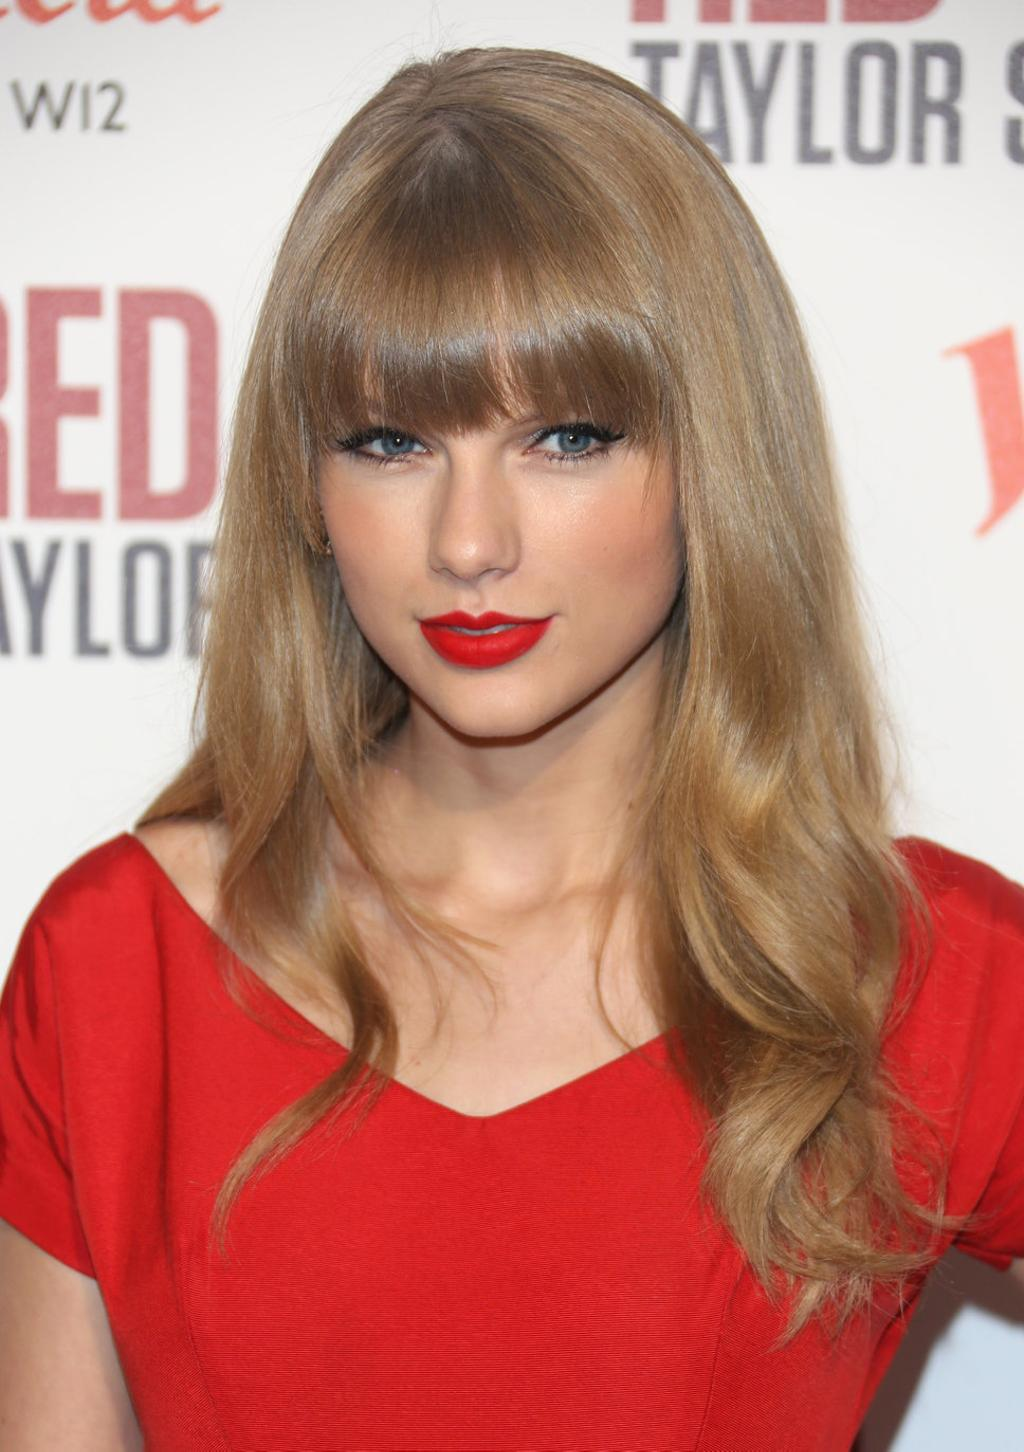face: (326, 250, 692, 741)
